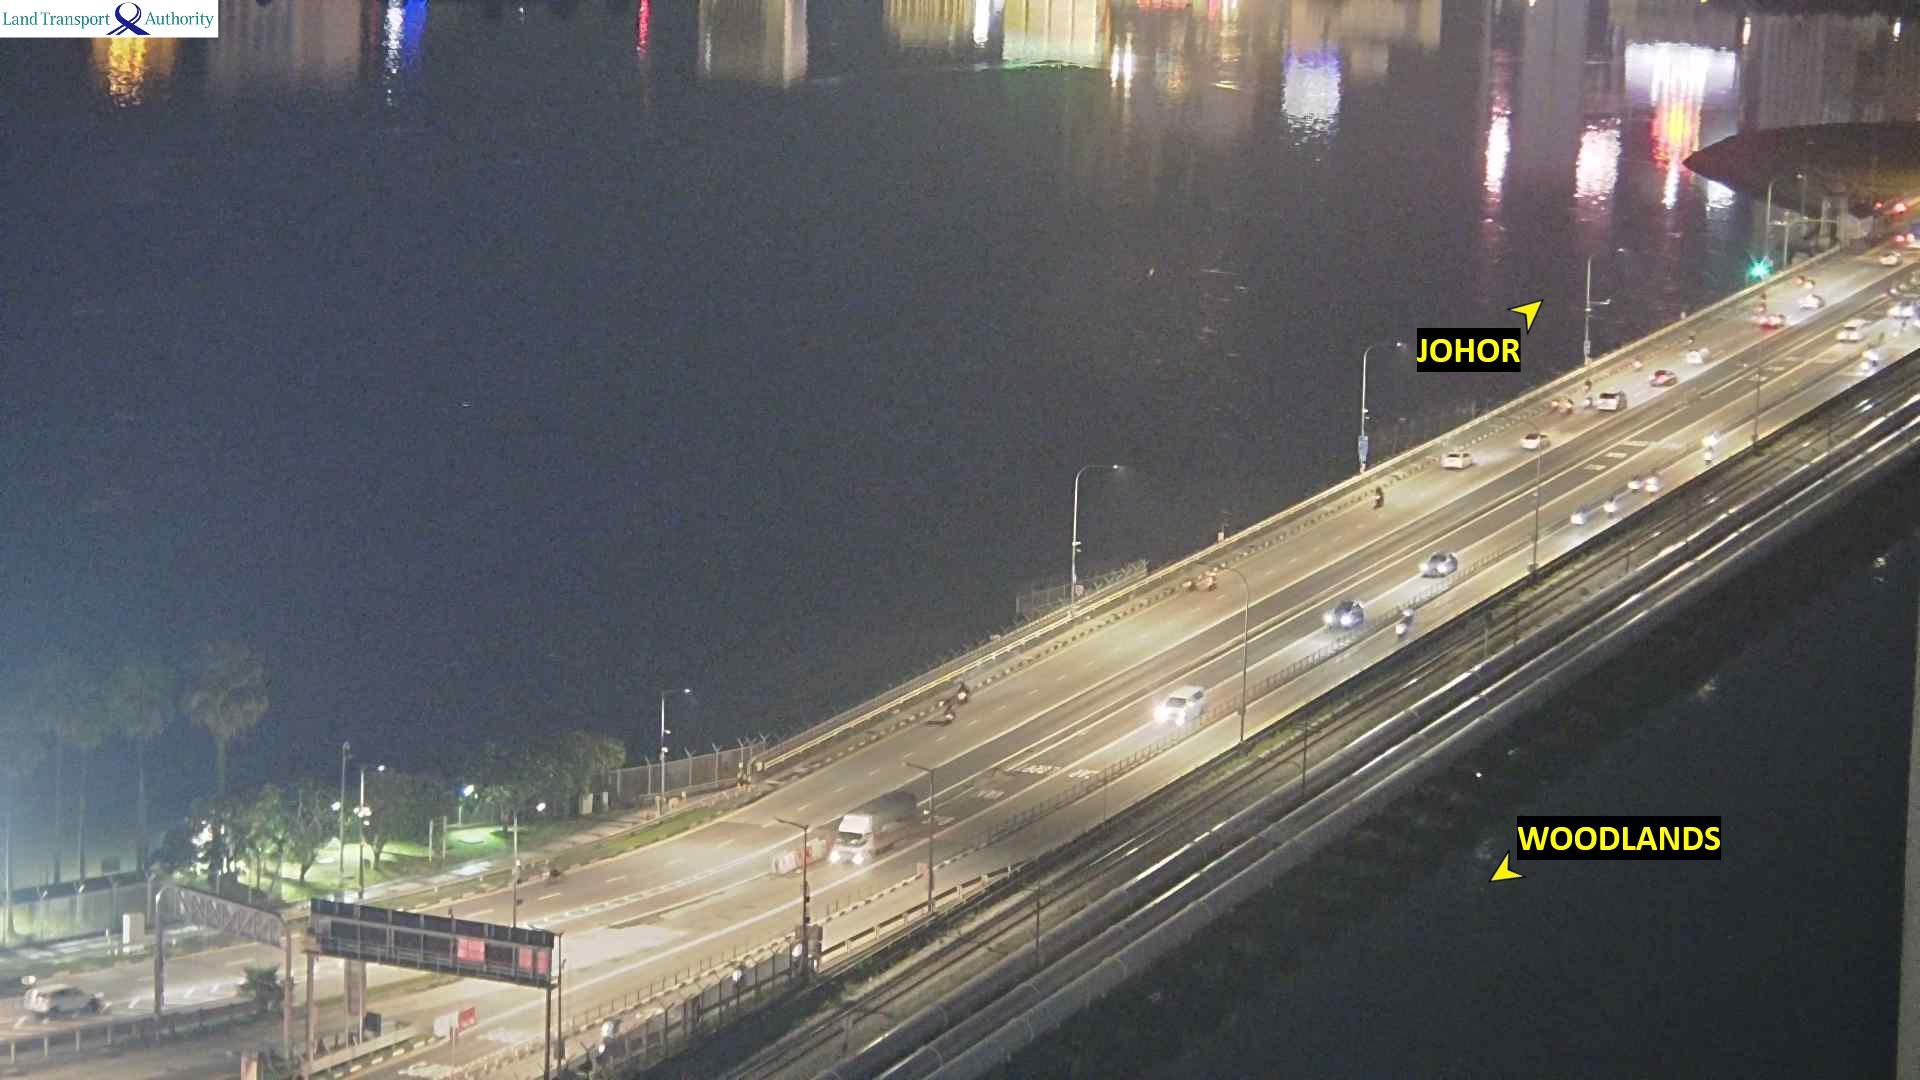vehicle-causeway-johor: (26, 988, 105, 1018), (1597, 390, 1626, 411), (1756, 303, 1782, 327), (1441, 451, 1472, 468), (1648, 369, 1677, 386), (1520, 433, 1548, 450), (1799, 295, 1824, 311), (542, 860, 558, 884), (957, 679, 971, 703), (1882, 251, 1900, 265), (1549, 400, 1573, 410), (1793, 276, 1812, 287), (945, 703, 955, 723), (1374, 488, 1383, 505), (1207, 574, 1216, 588), (1634, 357, 1642, 373), (1584, 378, 1593, 390), (1584, 397, 1590, 410), (1687, 335, 1695, 344)
vehicle-causeway-singapore: (831, 793, 919, 865), (1155, 686, 1205, 723), (1325, 601, 1361, 630), (1422, 553, 1458, 578), (1393, 607, 1415, 637), (1700, 434, 1720, 464), (1890, 299, 1913, 320), (1838, 322, 1865, 340), (1863, 349, 1882, 375), (1644, 469, 1662, 495), (1605, 496, 1617, 521), (1571, 510, 1589, 526), (1630, 475, 1639, 496)
